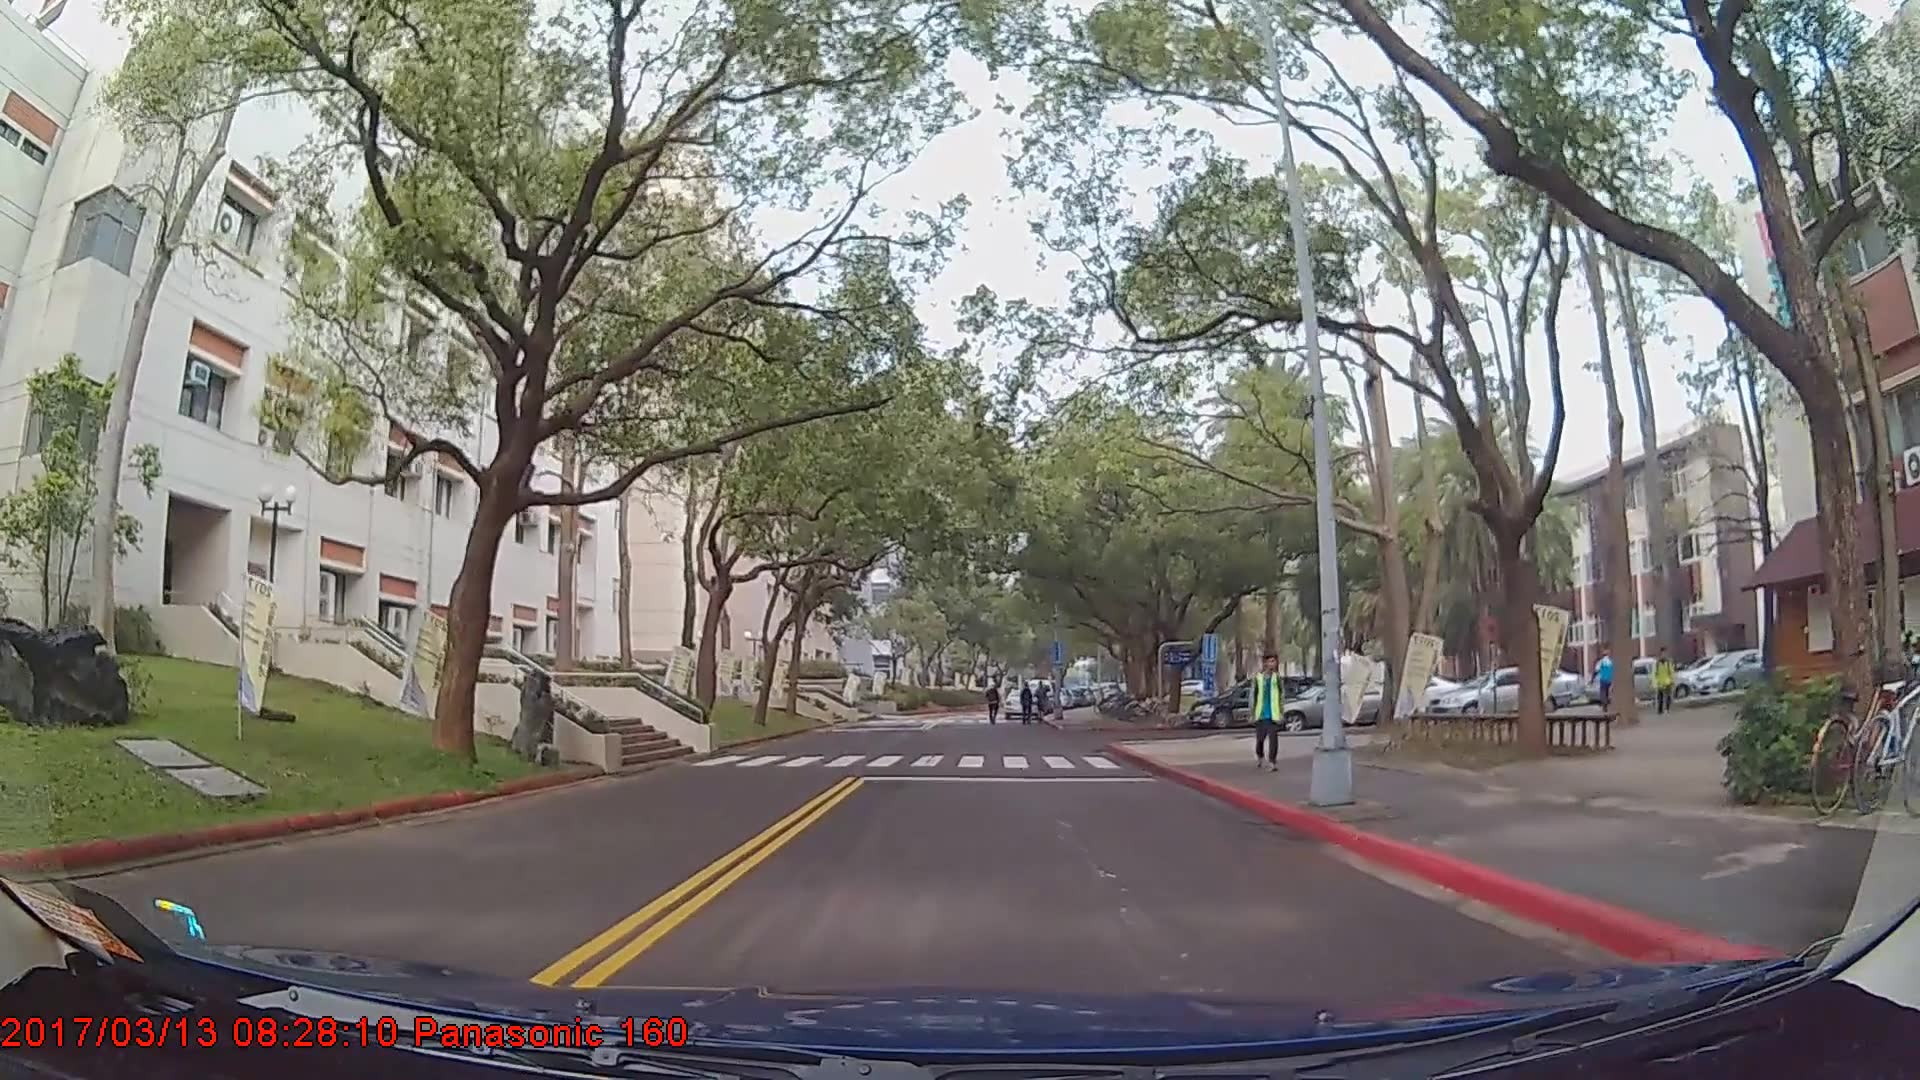pedestrian: (1249, 652, 1290, 775), (1652, 650, 1675, 717), (1018, 683, 1039, 728)
vehicle: (1427, 665, 1572, 724), (1273, 677, 1412, 730), (1192, 674, 1314, 730), (1689, 648, 1779, 695)
